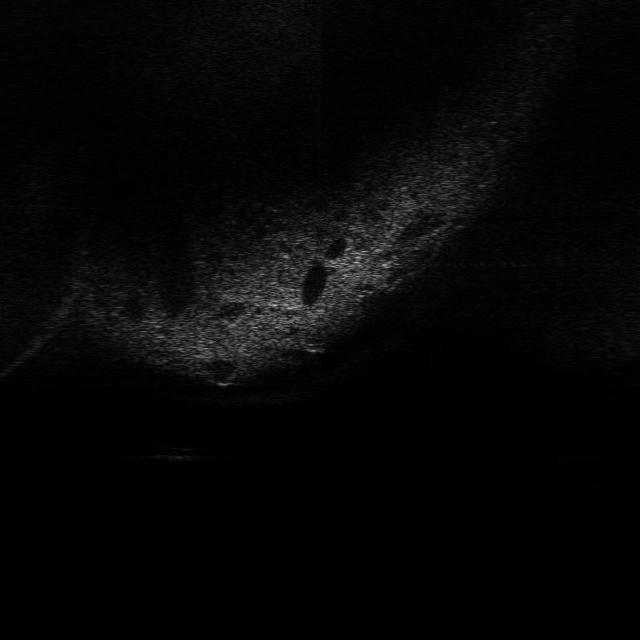ball: (294, 318, 337, 356)
cube: (148, 441, 207, 466)
